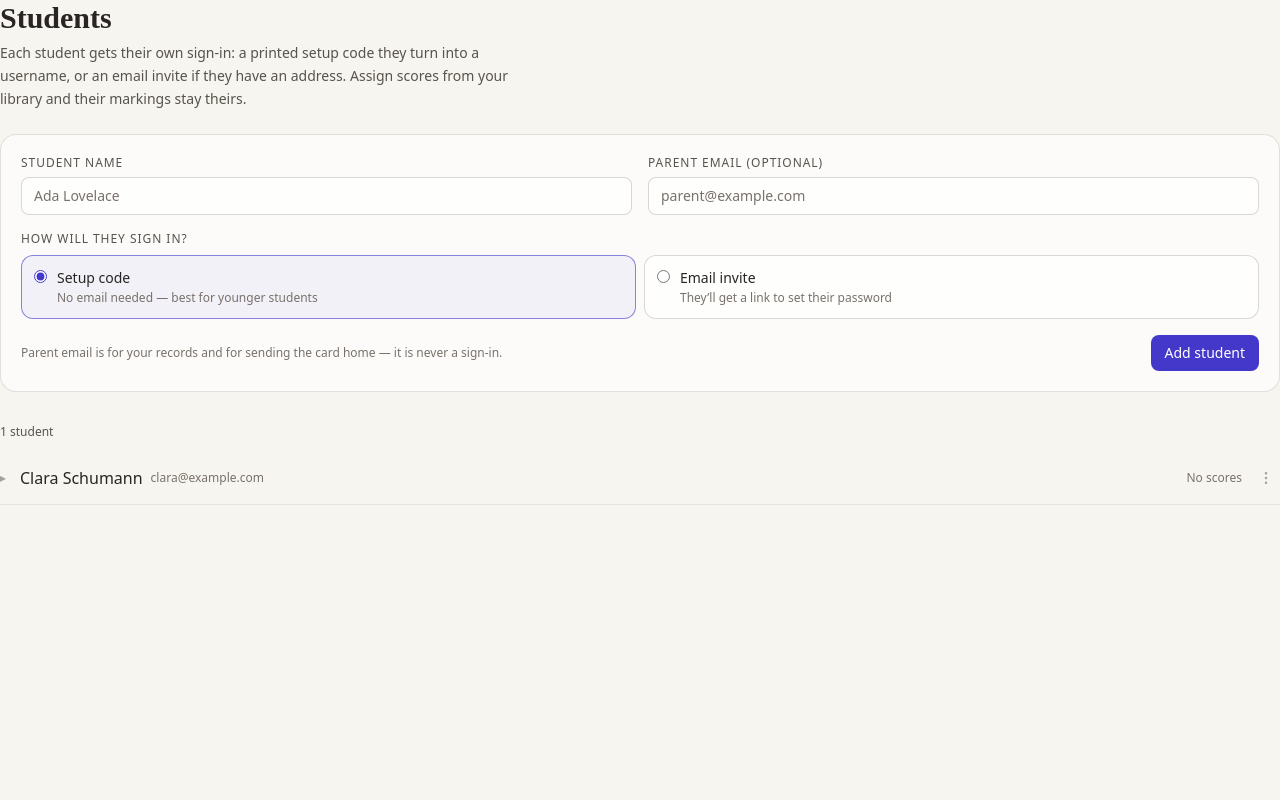
Test: RosterPage › resets an email student by sending another link, and says where it went
Click the button named "Student actions" at (1266, 478), box [1252,464,1279,492]
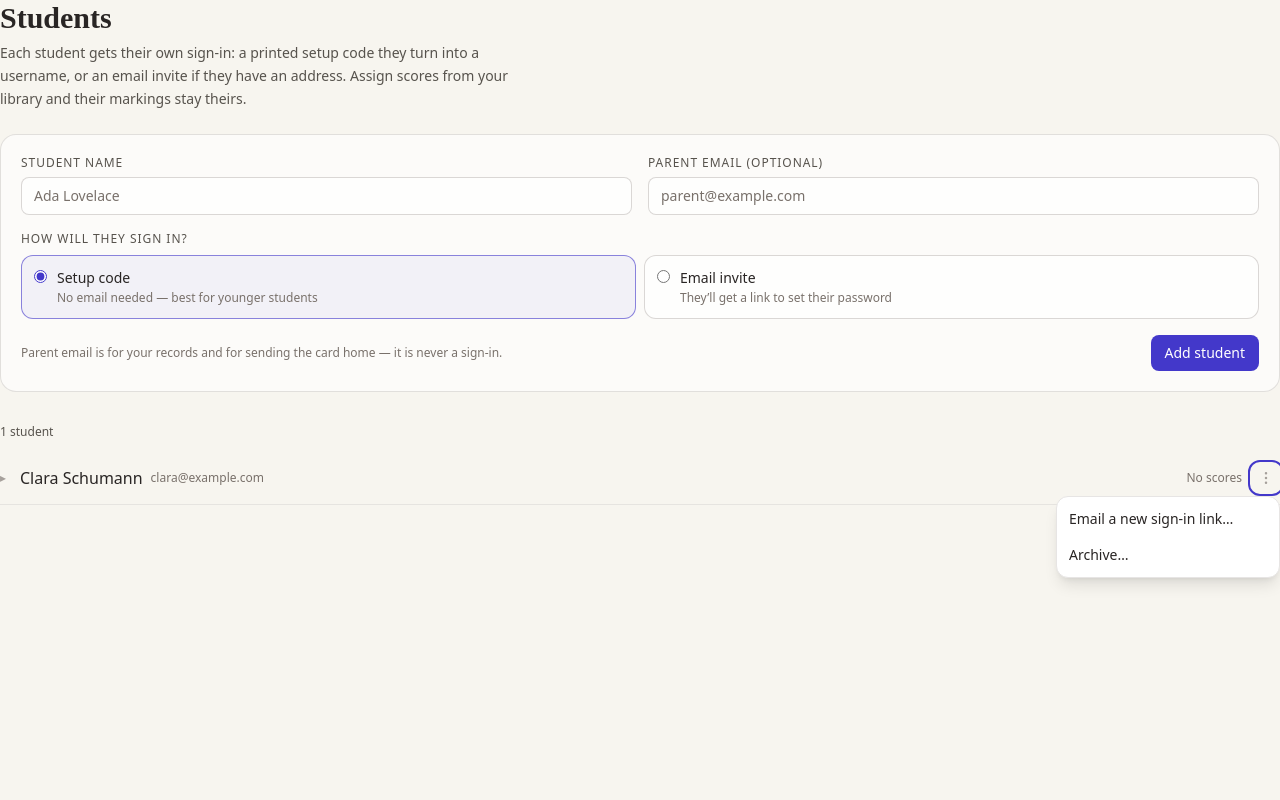
Click the menu item "Email a new sign-in link…" at (1168, 519), box [1057,501,1279,537]
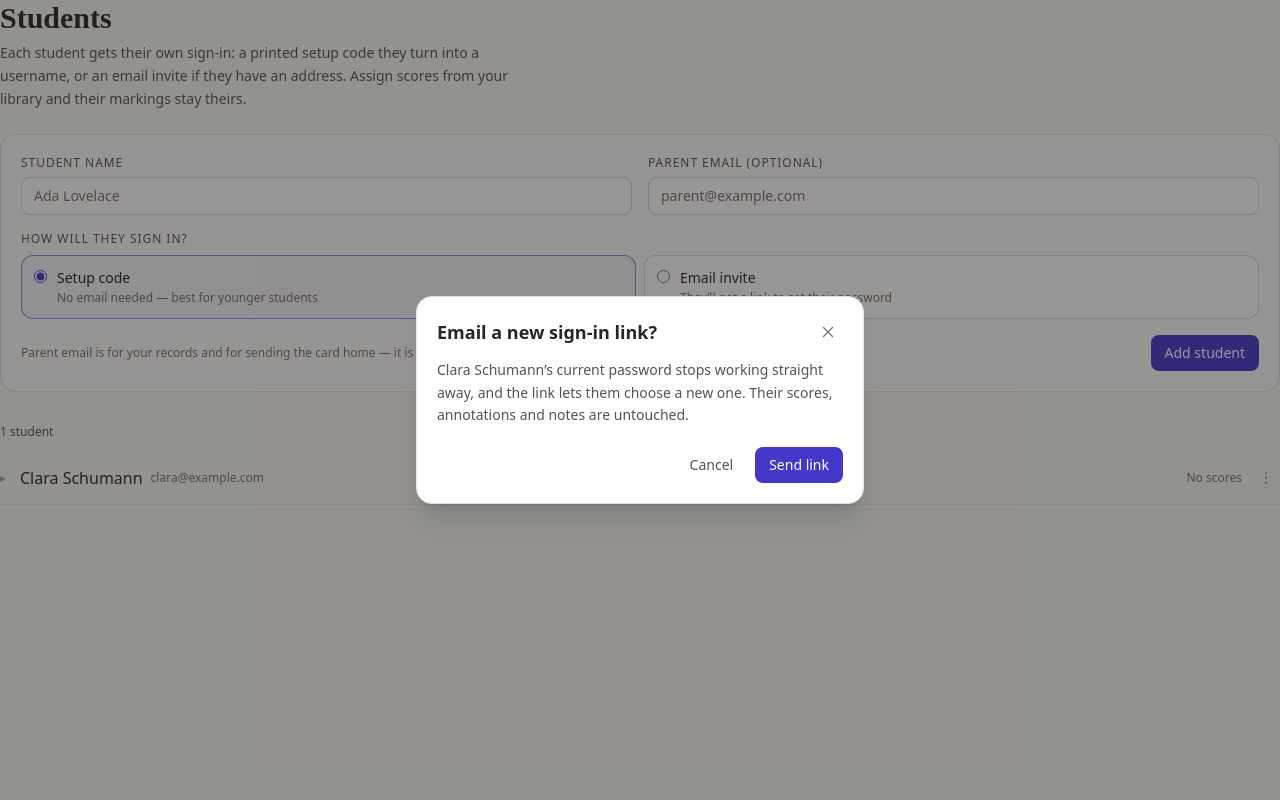
Click the button "Send link" at (799, 465), box [755,447,843,483]
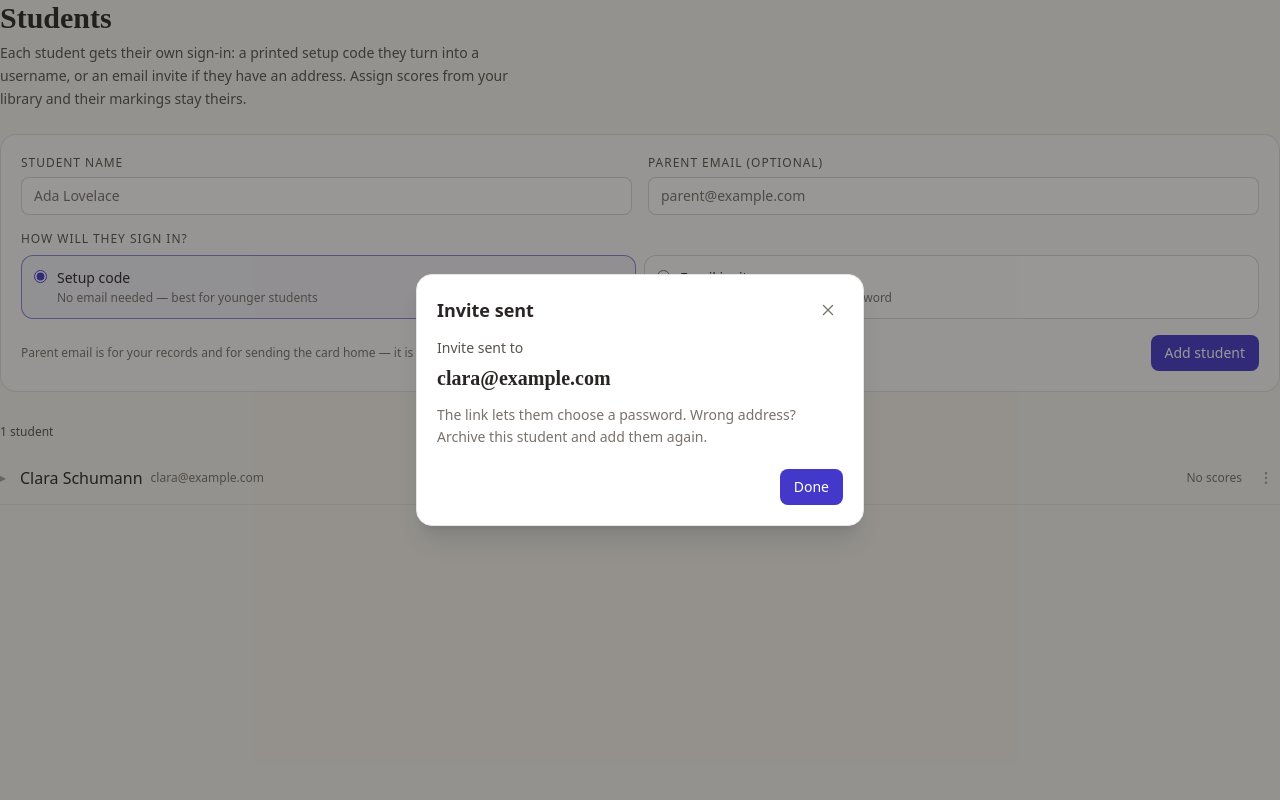
Expected: the text "clara@example.com" is shown, [437,367,610,389]
